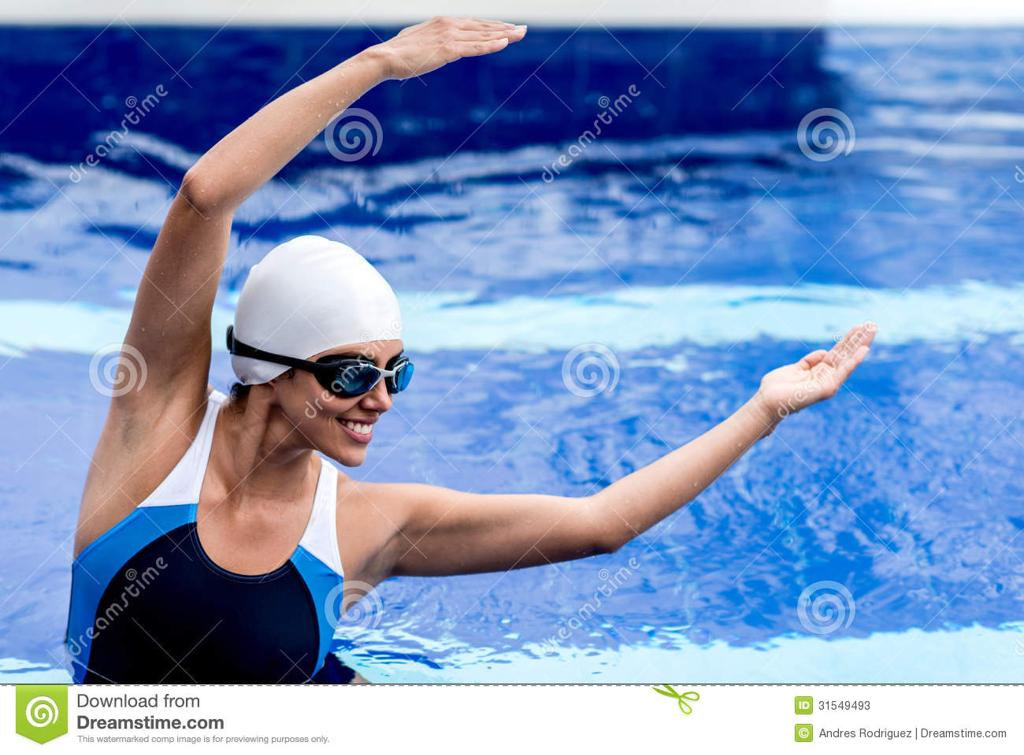face: (298, 304, 402, 464)
